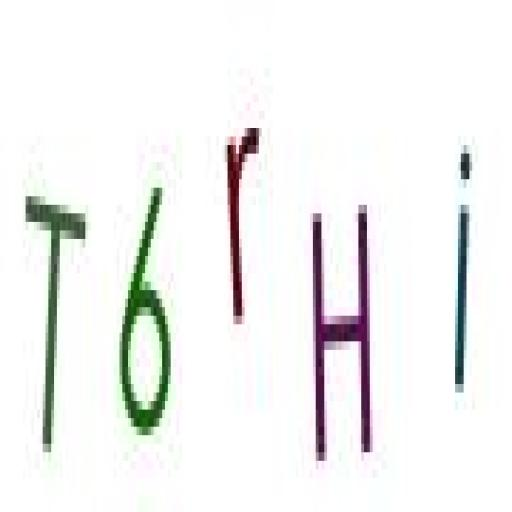6: (115, 162, 178, 454)
H: (302, 182, 380, 473)
T: (19, 170, 93, 473)
i: (446, 132, 481, 418)
r: (219, 108, 269, 344)
